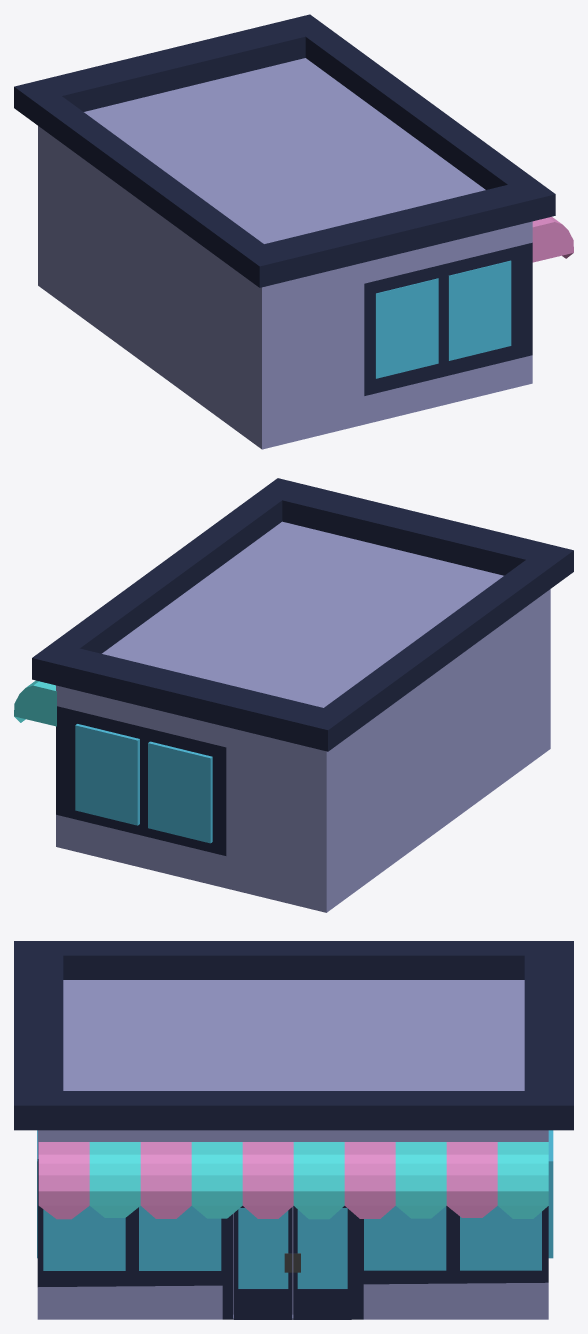
The model's file is Shop Building.fbx.
The picture shows the model from 3 angles, top to bottom: view 1: azimuth 30°, elevation 25°; view 2: azimuth 150°, elevation 25°; view 3: azimuth 270°, elevation 25°; orthographic projection. The views are drawn at different scales.
Parts seen in each view (by area): view 1: Cube.001, Cube.015, Cube.011, Cube.012, Plane; view 2: Cube.001, Cube.015, Cube.013, Cube.014, Plane; view 3: Cube.001, Cube.015, Plane, Cube.008, Cube.007, Cube.003, Cube.004, Cube.005, Cube.006, Cube.013.
Part boxes in pixels (x1,y1,x2,y2): Cube.001: [38, 58, 532, 449]; Cube.015: [14, 14, 555, 287]; Cube.011: [448, 260, 511, 360]; Cube.012: [375, 278, 438, 378]; Plane: [532, 216, 573, 262]; Cube.001: [56, 521, 550, 912]; Cube.015: [32, 478, 573, 751]; Cube.013: [75, 724, 139, 825]; Cube.014: [148, 741, 212, 843]; Plane: [14, 680, 56, 726]; Cube.001: [37, 980, 548, 1319]; Cube.015: [14, 941, 573, 1130]; Plane: [38, 1142, 548, 1219]; Cube.008: [293, 1206, 351, 1319]; Cube.007: [234, 1206, 292, 1319]; Cube.003: [139, 1206, 221, 1270]; Cube.004: [364, 1206, 446, 1270]; Cube.005: [43, 1205, 125, 1270]; Cube.006: [460, 1205, 541, 1270]; Cube.013: [548, 1130, 553, 1258].
Size of the model in its own units: 2759 by 1572 by 3612.
